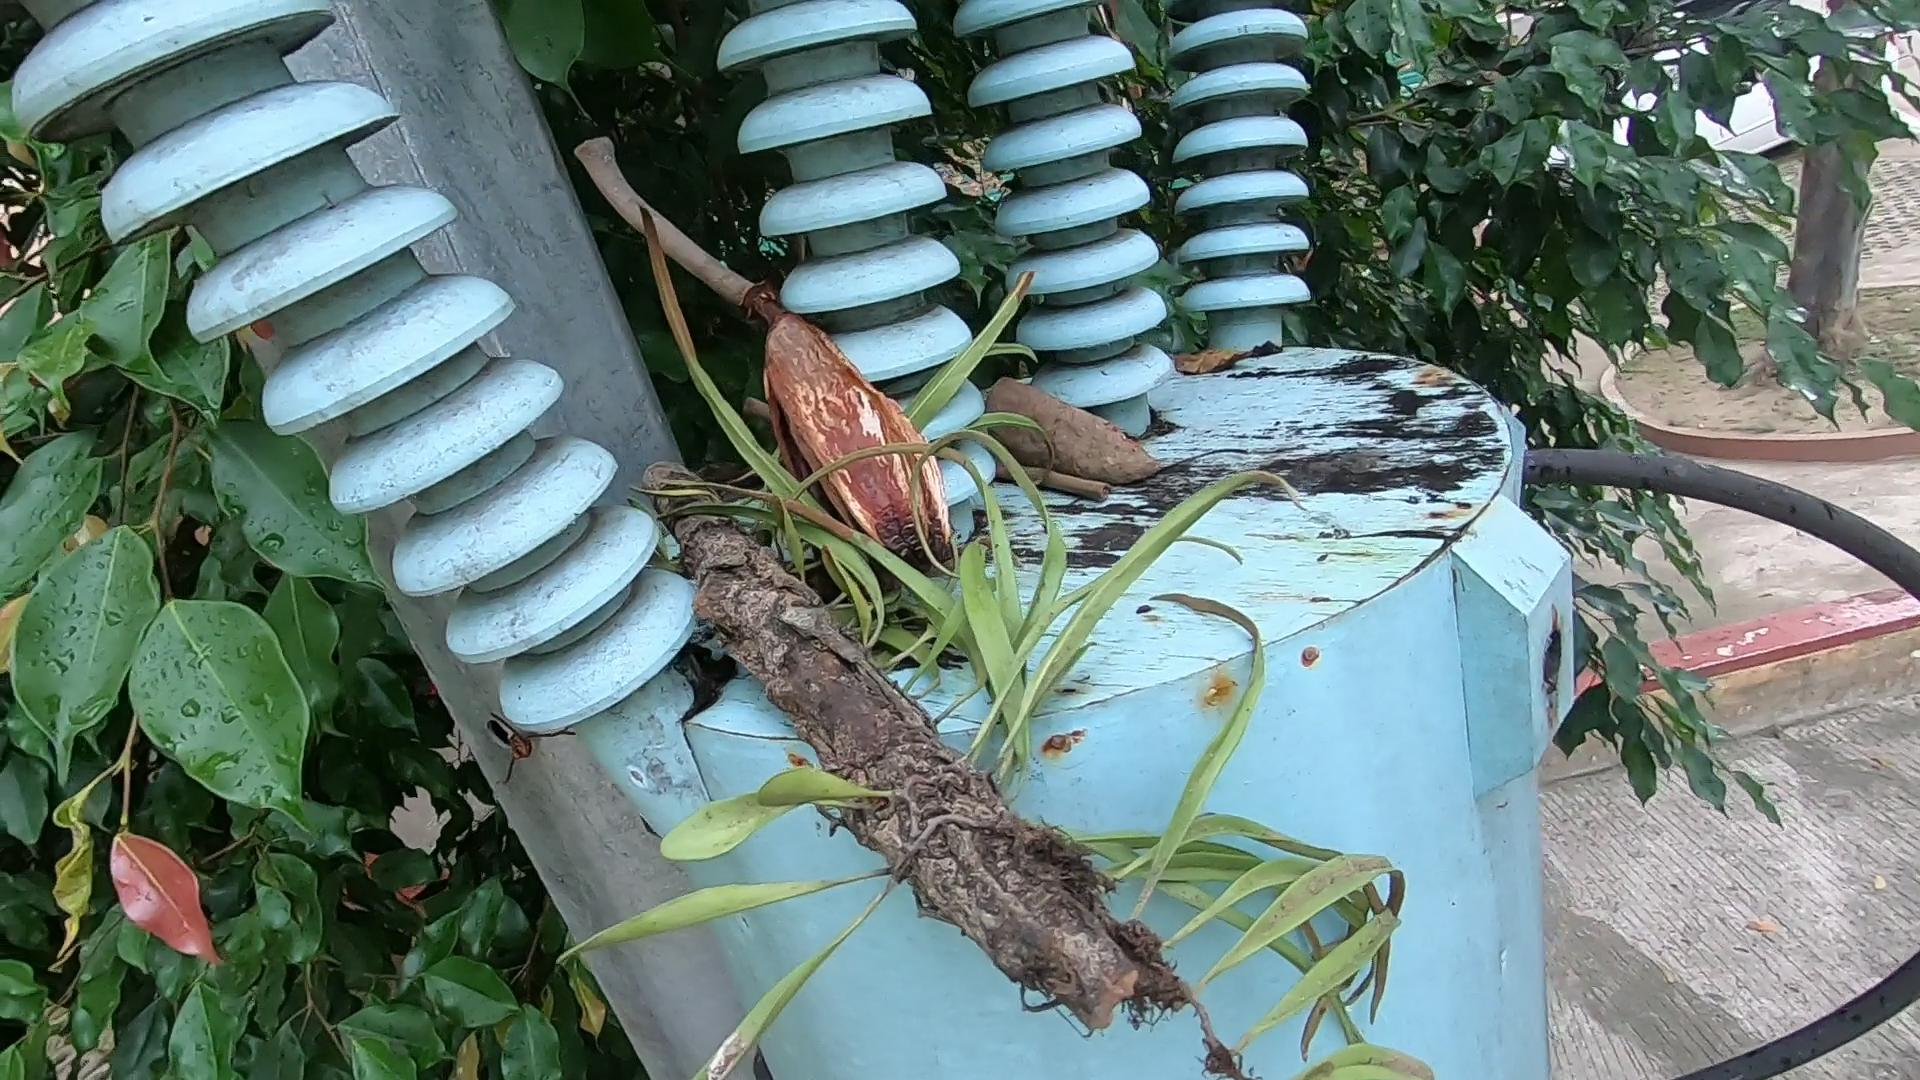branch with leaves: (641, 458, 1403, 1051)
leaf: (1179, 305, 1284, 390)
mahogany fruit: (758, 298, 957, 589), (960, 330, 1137, 496)
tree branch: (560, 138, 791, 382), (749, 390, 1131, 513), (978, 444, 1143, 527)
